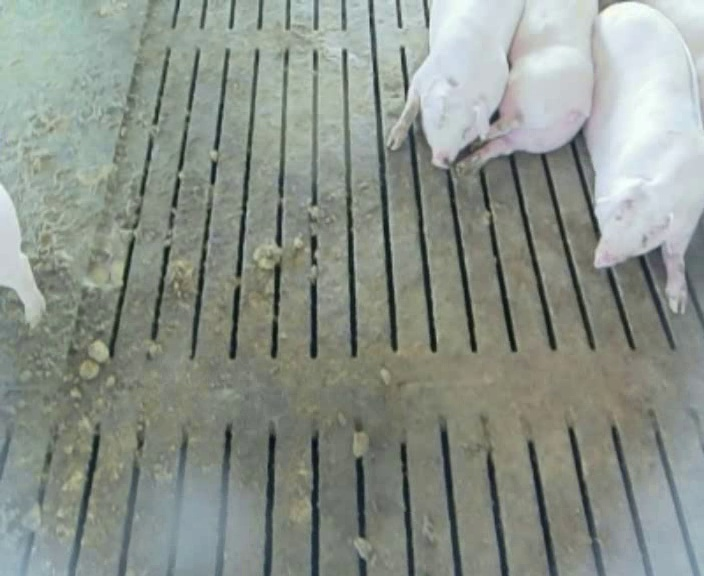pig: (585, 4, 703, 312), (457, 3, 596, 172), (388, 2, 522, 168), (650, 2, 703, 112)
